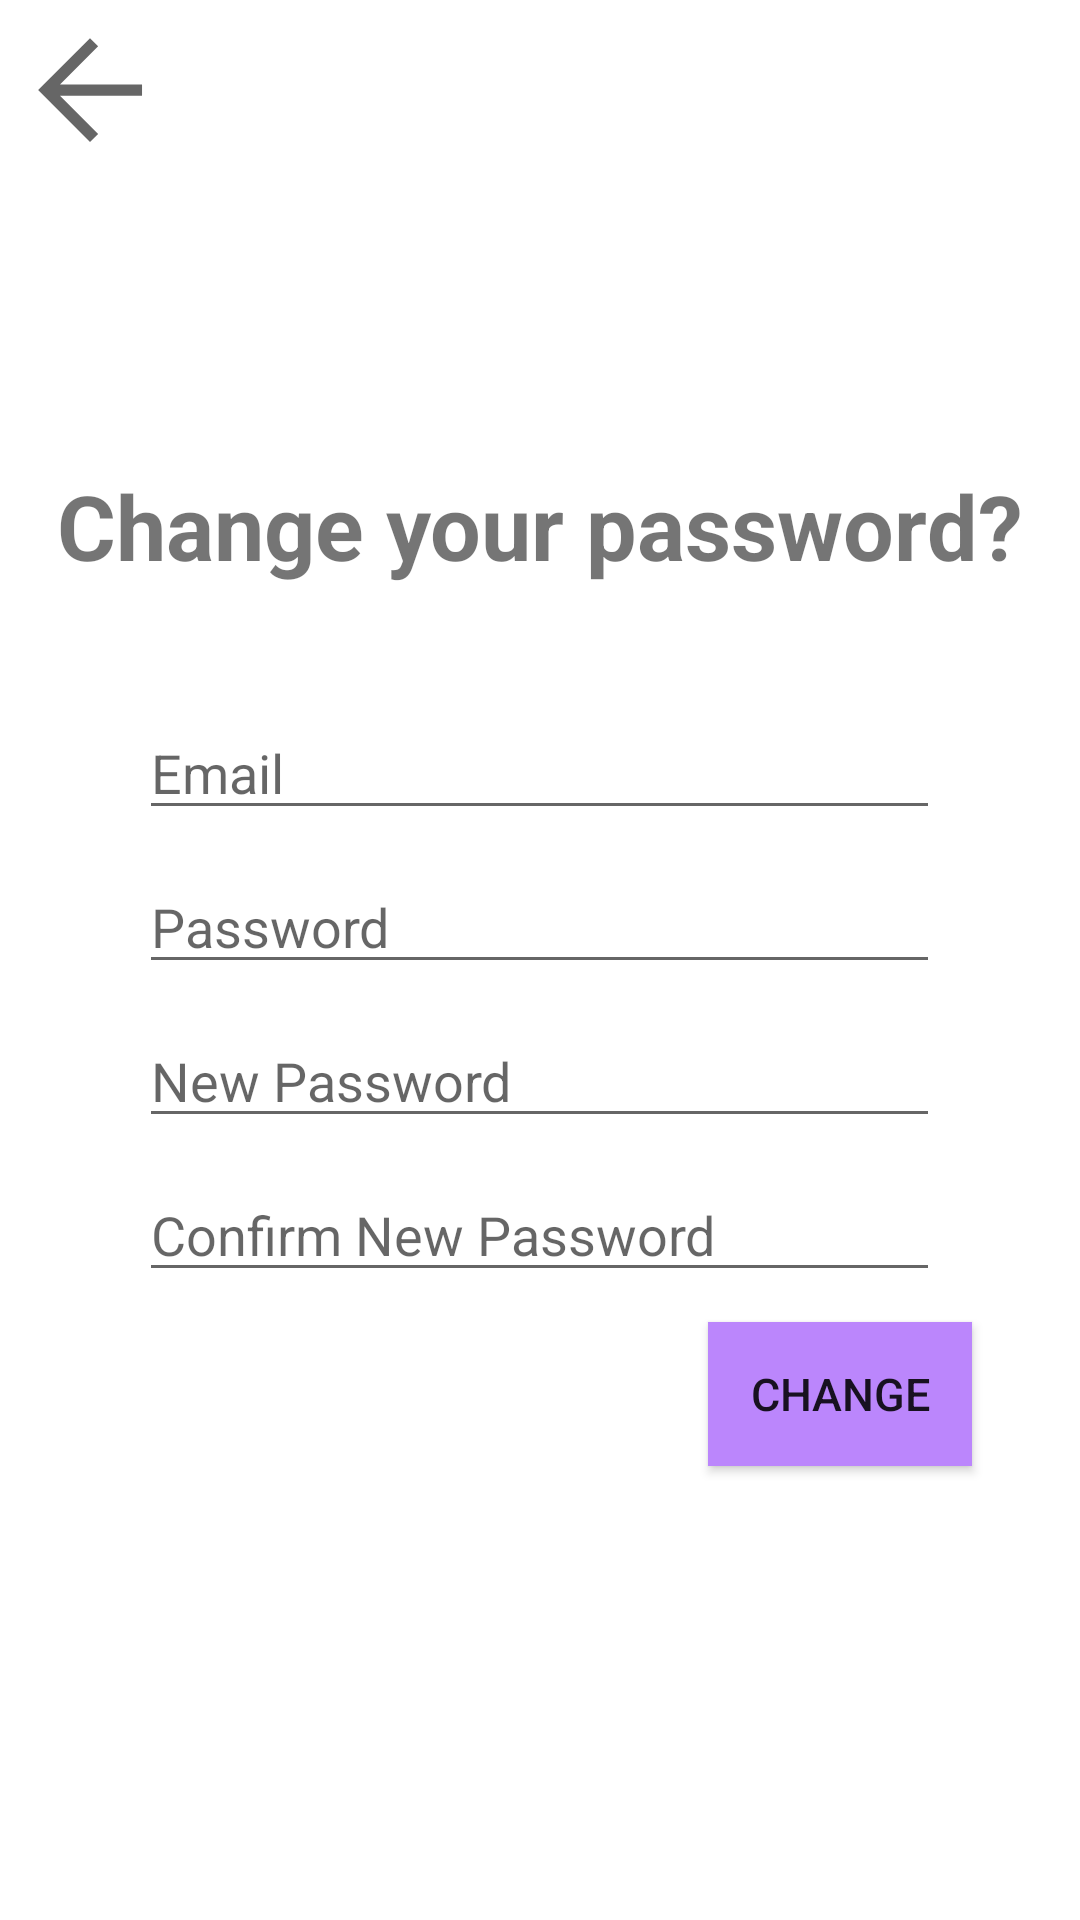

Screen size 1080px×1920px. Icon name, then its box in pixels as (x1, y1, x2, y2):
backarrow: (38, 38, 142, 142)
